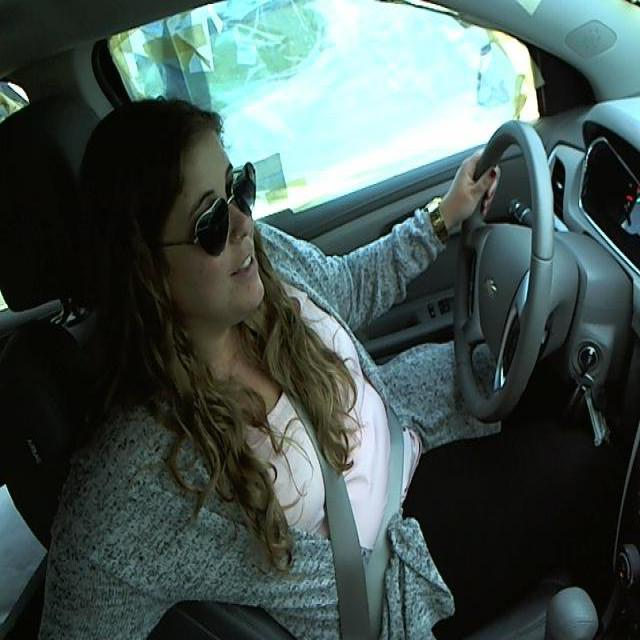seatbelt: (266, 394, 418, 638)
